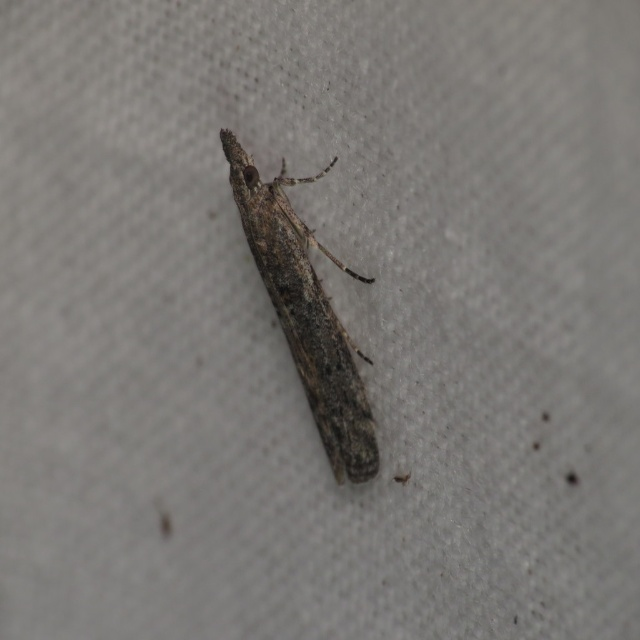Moths and butterflies: (218, 126, 382, 491)
